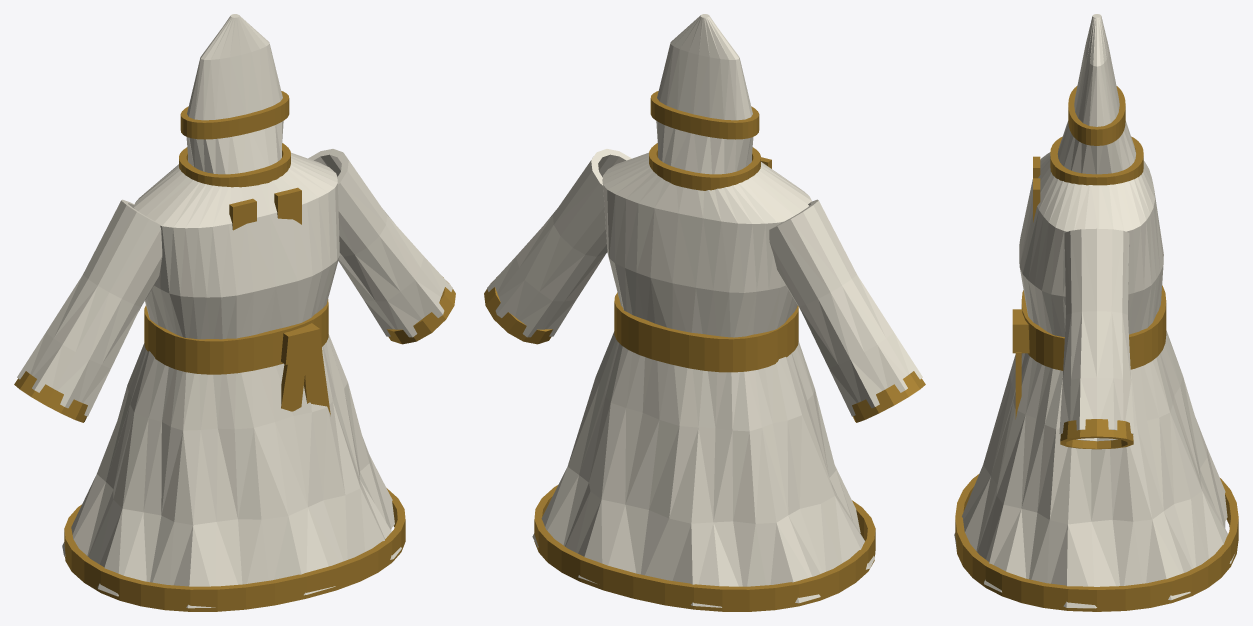
File: holy_vestment.obj
3 views of the same model, side by side, from view 1: azimuth 30°, elevation 25°; view 2: azimuth 150°, elevation 25°; view 3: azimuth 270°, elevation 25° (orthographic).
Parts seen in each view (by area): view 1: A_Body.001_holy_vestment_cloth, C_Sleeve.001_holy_vestment_cloth, B_Mitre.001_holy_vestment_cloth, D_HemTrim.001_holy_vestment_trim, E_Sash.001_holy_vestment_sash, C_Cuff.001_holy_vestment_trim, B_MitreBand.001_holy_vestment_trim, D_NeckTrim.001_holy_vestment_trim, E_Knot.001_holy_vestment_sash, E_Tail0.001_holy_vestment_sash, E_Tail1.001_holy_vestment_sash, F_StoleR.001_holy_vestment_trim (+1 smaller); view 2: A_Body.001_holy_vestment_cloth, C_Sleeve.001_holy_vestment_cloth, B_Mitre.001_holy_vestment_cloth, D_HemTrim.001_holy_vestment_trim, E_Sash.001_holy_vestment_sash, C_Cuff.001_holy_vestment_trim, B_MitreBand.001_holy_vestment_trim, D_NeckTrim.001_holy_vestment_trim; view 3: A_Body.001_holy_vestment_cloth, C_Sleeve.001_holy_vestment_cloth, D_HemTrim.001_holy_vestment_trim, B_Mitre.001_holy_vestment_cloth, E_Sash.001_holy_vestment_sash, C_Cuff.001_holy_vestment_trim, D_NeckTrim.001_holy_vestment_trim, B_MitreBand.001_holy_vestment_trim, E_Knot.001_holy_vestment_sash, E_Tail1.001_holy_vestment_sash.
Boxes of the visible parts, left/top/right/bottom form: A_Body.001_holy_vestment_cloth: left=62, top=152, right=401, bottom=608; C_Sleeve.001_holy_vestment_cloth: left=17, top=149, right=452, bottom=416; B_Mitre.001_holy_vestment_cloth: left=186, top=14, right=283, bottom=174; D_HemTrim.001_holy_vestment_trim: left=64, top=488, right=405, bottom=611; E_Sash.001_holy_vestment_sash: left=144, top=299, right=328, bottom=374; C_Cuff.001_holy_vestment_trim: left=14, top=277, right=455, bottom=422; B_MitreBand.001_holy_vestment_trim: left=180, top=91, right=289, bottom=139; D_NeckTrim.001_holy_vestment_trim: left=179, top=143, right=290, bottom=187; E_Knot.001_holy_vestment_sash: left=281, top=323, right=322, bottom=364; E_Tail0.001_holy_vestment_sash: left=281, top=360, right=306, bottom=411; E_Tail1.001_holy_vestment_sash: left=303, top=356, right=330, bottom=415; F_StoleR.001_holy_vestment_trim: left=274, top=187, right=301, bottom=224; A_Body.001_holy_vestment_cloth: left=532, top=152, right=874, bottom=607; C_Sleeve.001_holy_vestment_cloth: left=487, top=149, right=922, bottom=416; B_Mitre.001_holy_vestment_cloth: left=656, top=14, right=753, bottom=174; D_HemTrim.001_holy_vestment_trim: left=534, top=485, right=875, bottom=611; E_Sash.001_holy_vestment_sash: left=614, top=292, right=798, bottom=372; C_Cuff.001_holy_vestment_trim: left=484, top=277, right=925, bottom=422; B_MitreBand.001_holy_vestment_trim: left=650, top=91, right=759, bottom=139; D_NeckTrim.001_holy_vestment_trim: left=649, top=143, right=760, bottom=190; A_Body.001_holy_vestment_cloth: left=954, top=152, right=1234, bottom=608; C_Sleeve.001_holy_vestment_cloth: left=1059, top=228, right=1134, bottom=441; D_HemTrim.001_holy_vestment_trim: left=955, top=474, right=1238, bottom=611; B_Mitre.001_holy_vestment_cloth: left=1057, top=14, right=1135, bottom=174; E_Sash.001_holy_vestment_sash: left=1021, top=285, right=1166, bottom=370; C_Cuff.001_holy_vestment_trim: left=1060, top=419, right=1133, bottom=449; D_NeckTrim.001_holy_vestment_trim: left=1050, top=136, right=1143, bottom=185; B_MitreBand.001_holy_vestment_trim: left=1068, top=86, right=1125, bottom=145; E_Knot.001_holy_vestment_sash: left=1012, top=309, right=1029, bottom=353; E_Tail1.001_holy_vestment_sash: left=1015, top=352, right=1021, bottom=419.
Bounding box in the file's own units: 3.25 × 3.83 × 1.89.
